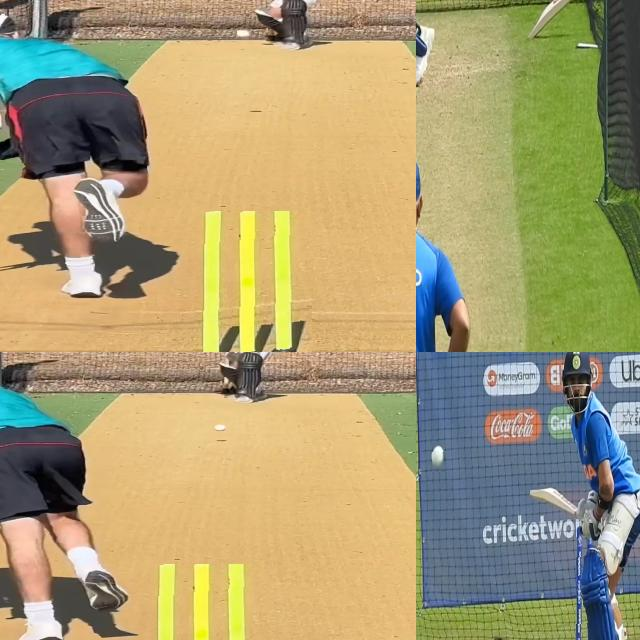Cricket ball: (431, 444, 446, 472), (236, 28, 251, 38), (214, 423, 227, 432)
Stumps: (190, 211, 313, 352), (139, 564, 267, 640), (574, 523, 601, 640)
